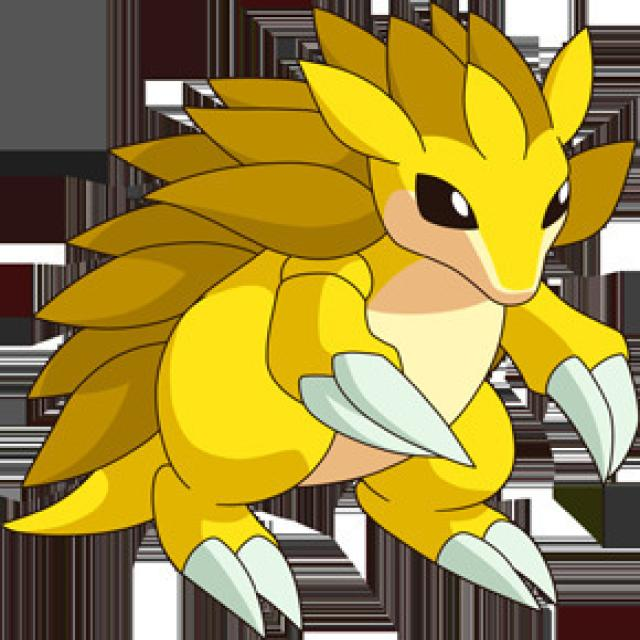Sandslash: (43, 11, 640, 602)
